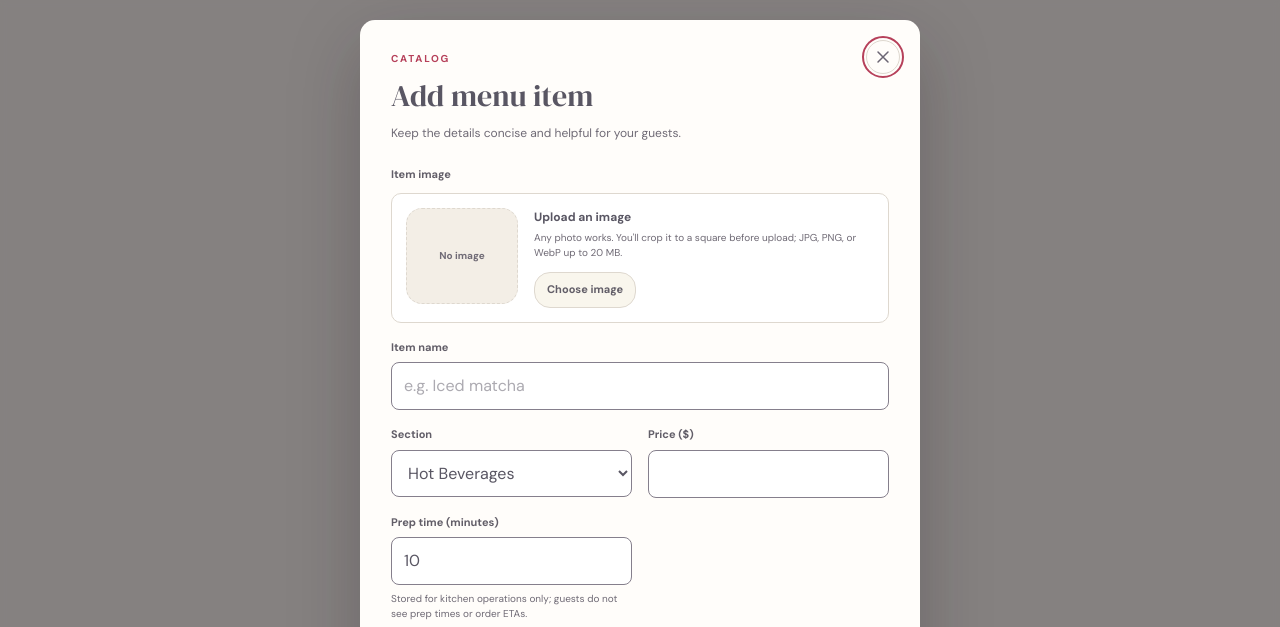
Test case: ItemModal › rejects a negative price
Type "Matcha" into the field labelled "Item name" at x=640, y=386, box [391,362,889,410]
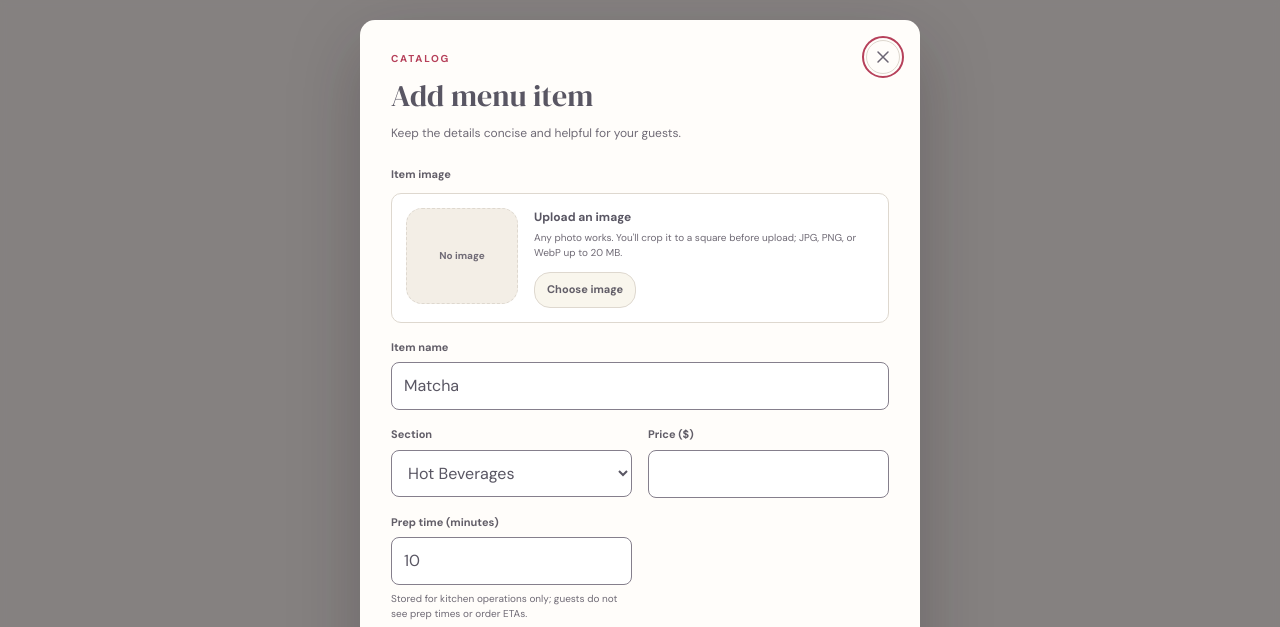
Type "-1" into the number field labelled "Price ($)" at x=768, y=474, box [648,450,889,498]
(page scrolled)
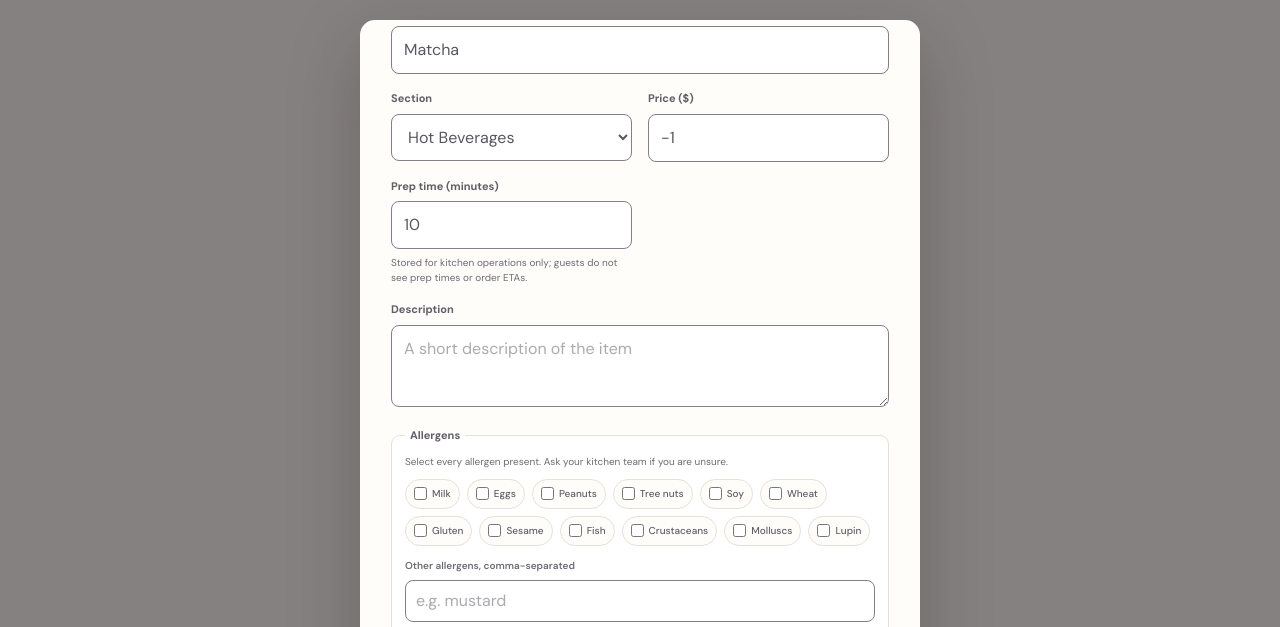
Submit the form
(page scrolled)
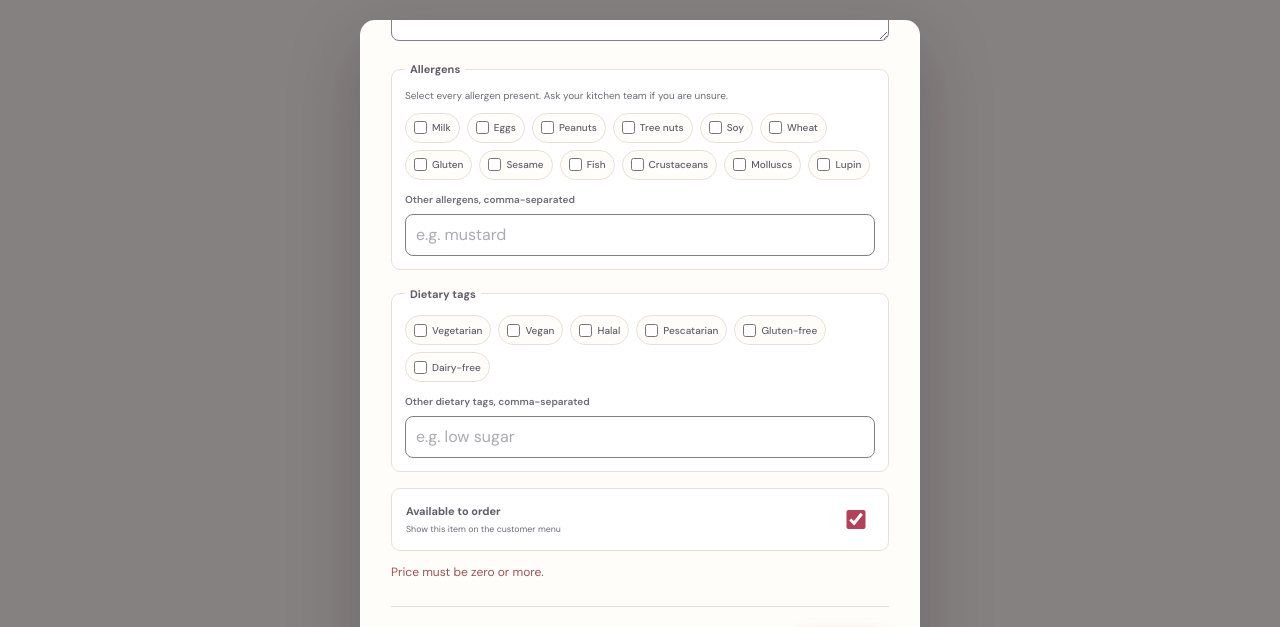
Result: the text "Price must be zero or more." is shown at [391,564,544,580]
